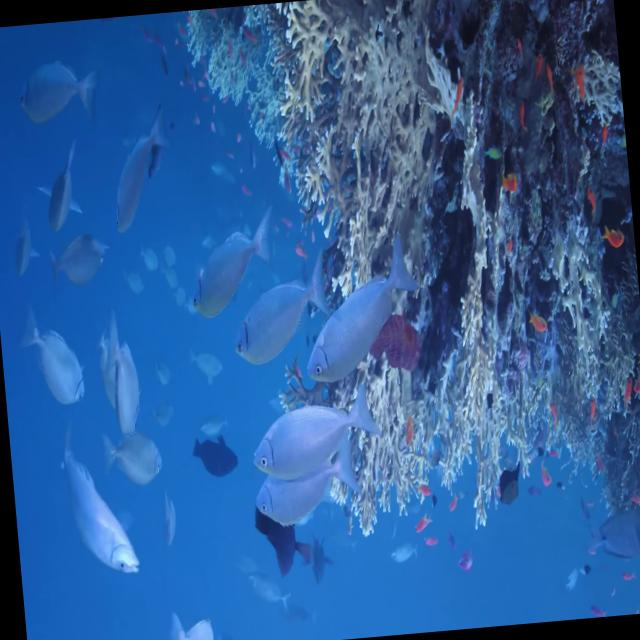fish: (287, 242, 437, 395), (235, 380, 381, 494), (45, 436, 144, 592), (225, 250, 338, 375), (175, 203, 282, 334), (94, 116, 198, 250), (5, 44, 116, 141), (10, 298, 99, 418), (29, 136, 98, 256), (91, 307, 150, 434), (101, 418, 171, 506), (246, 497, 314, 579), (56, 221, 118, 302), (238, 551, 297, 616), (591, 505, 640, 579), (182, 424, 243, 482), (7, 236, 48, 299), (185, 330, 228, 390), (489, 452, 529, 512), (159, 604, 220, 640), (156, 495, 187, 560), (383, 537, 424, 571), (598, 218, 624, 260), (524, 304, 548, 340), (501, 162, 516, 197)
